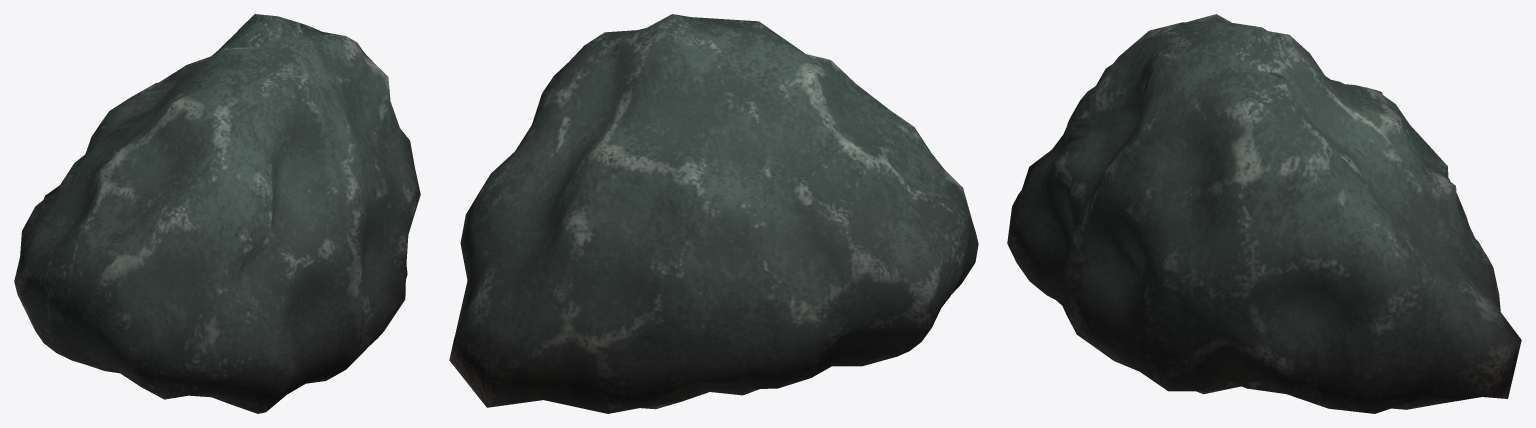
The model's file is Rock03.fbx.
3 renders of one model, left to right at view 1: azimuth 30°, elevation 25°; view 2: azimuth 150°, elevation 25°; view 3: azimuth 270°, elevation 25°, orthographic. The views are drawn at different scales.
Visible parts, largest first — view 1: rock.003_lp; view 2: rock.003_lp; view 3: rock.003_lp.
Boxes of the visible parts, box(x1,y1,x2,y2) form: rock.003_lp: box(14, 14, 420, 413); rock.003_lp: box(449, 14, 978, 413); rock.003_lp: box(1007, 14, 1521, 413).
Bounding box in the file's own units: 365 × 286 × 380.
